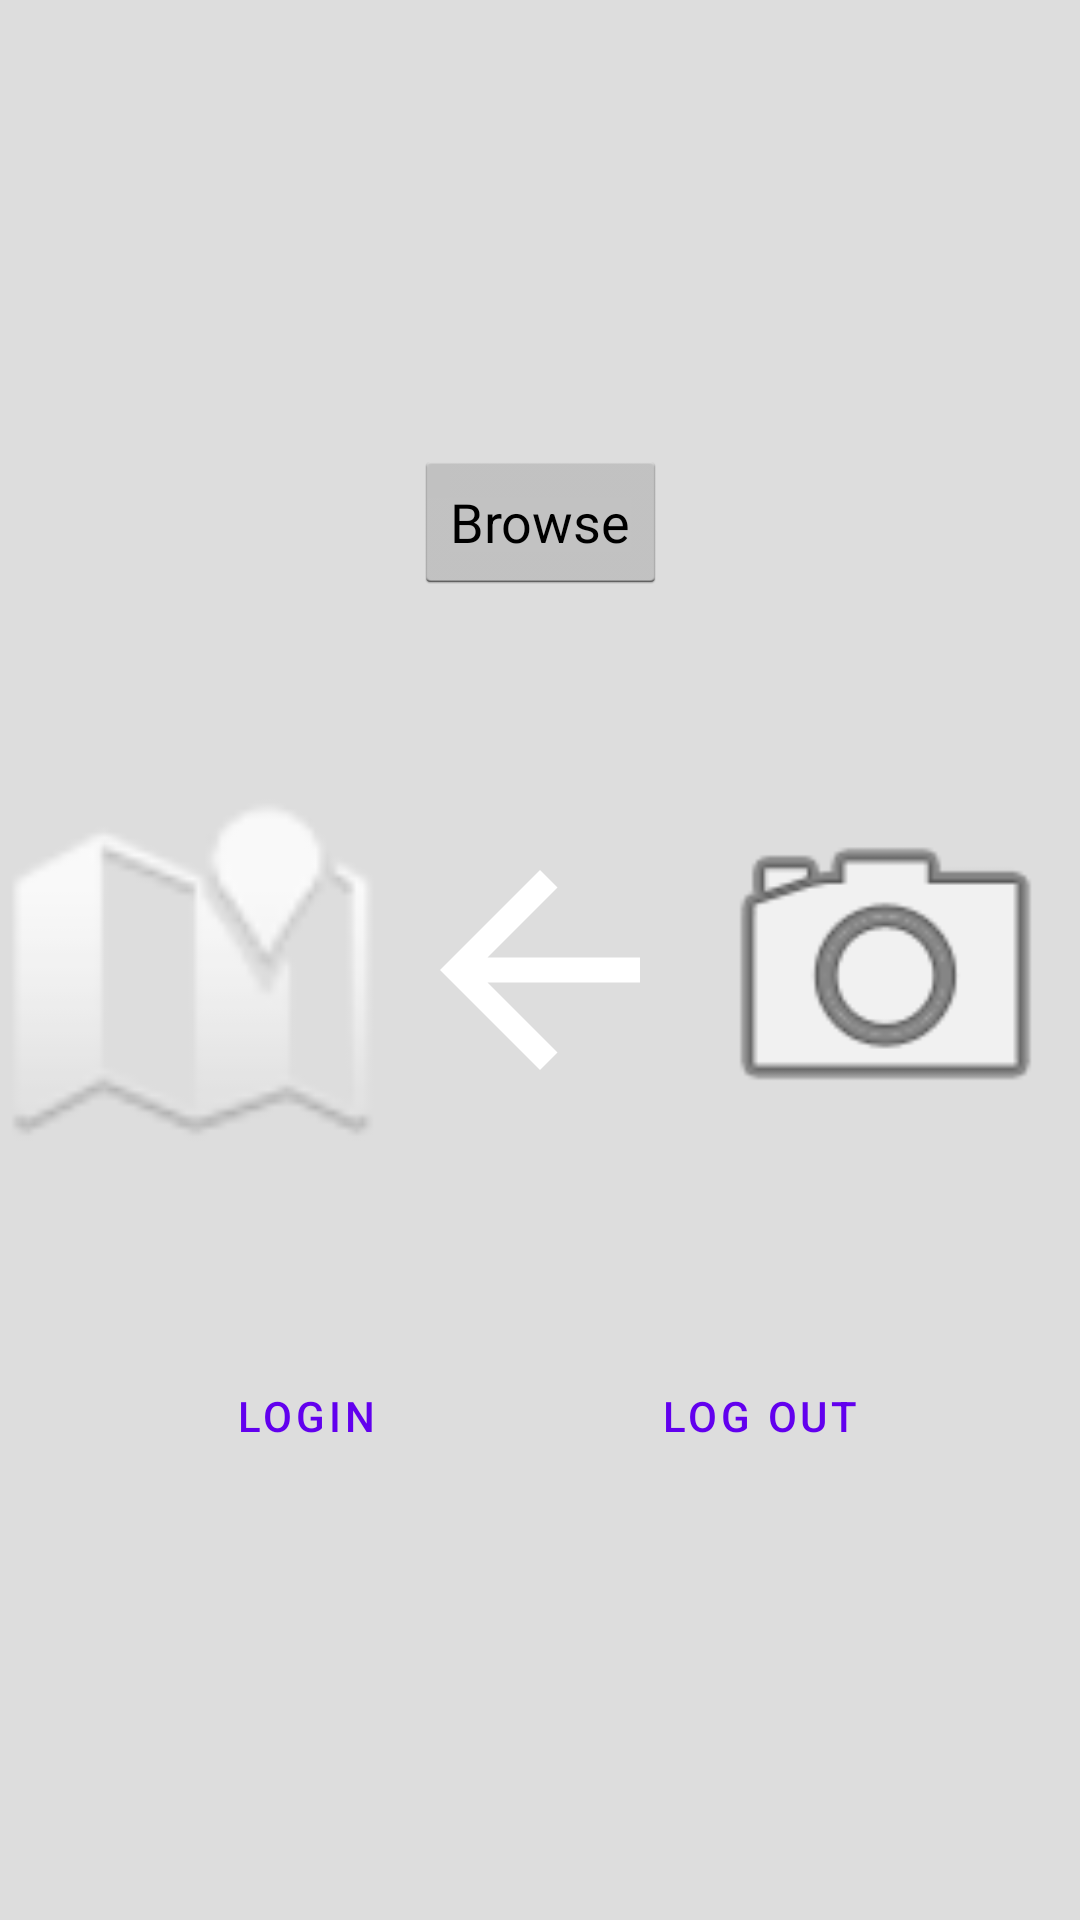

Icon bounding boxes for this 1080x1920 phone screenshot, format bbox(x1, y1, x2, y2):
camera: bbox(740, 847, 1031, 1080)
map: bbox(18, 815, 365, 1129)
